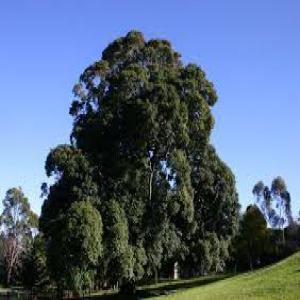Tree: (39, 22, 238, 285)
